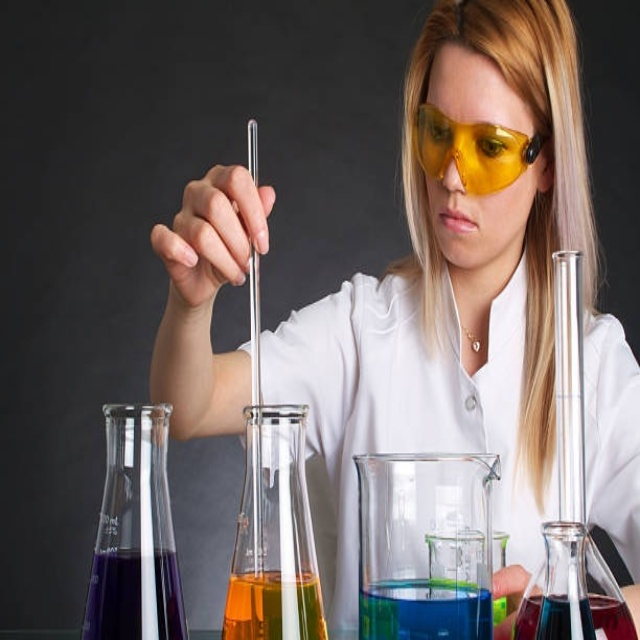Gafas: (414, 103, 545, 196)
Sin_guantes: (150, 161, 276, 309)
Sin_mascara: (432, 204, 483, 257)
